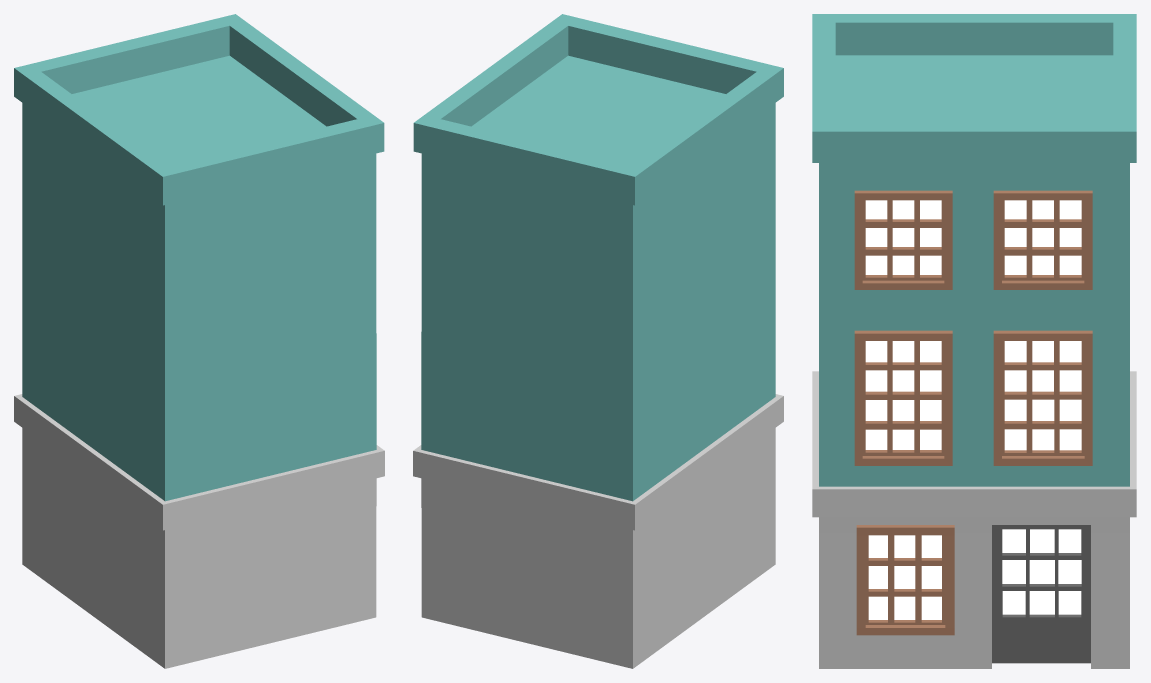
Rendered from House 4.2.fbx.
The picture shows the model from 3 angles, left to right: view 1: azimuth 30°, elevation 25°; view 2: azimuth 150°, elevation 25°; view 3: azimuth 270°, elevation 25°; orthographic projection. The views are drawn at different scales.
Parts seen in each view (by area): view 1: House 4.003; view 2: House 4.003; view 3: House 4.003.
Boxes of the visible parts, x1,y1,x2,y2 form: House 4.003: (14, 14, 384, 668); House 4.003: (413, 14, 783, 668); House 4.003: (812, 14, 1136, 668).
Bounding box in the file's own units: 857 × 1829 × 995.
